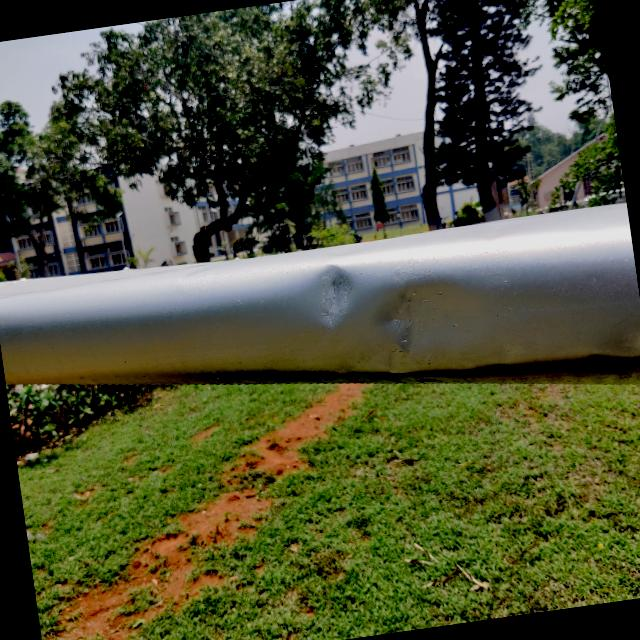dent: (356, 265, 478, 394), (286, 246, 380, 348)
